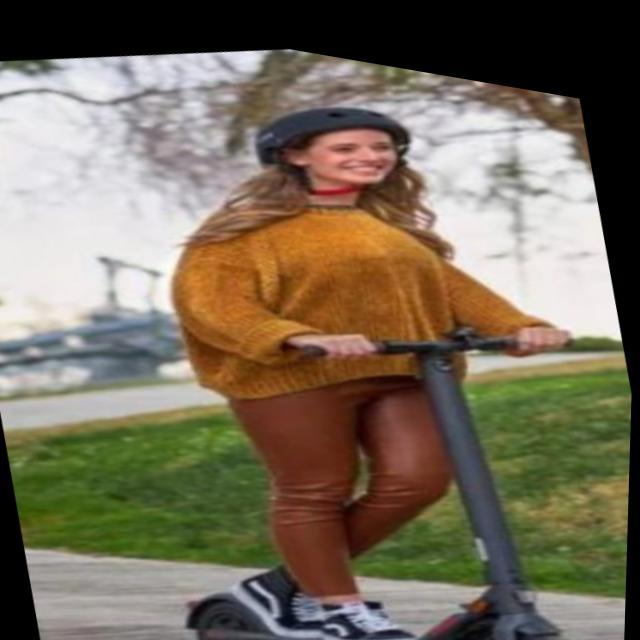Helmet: (252, 96, 416, 195)
